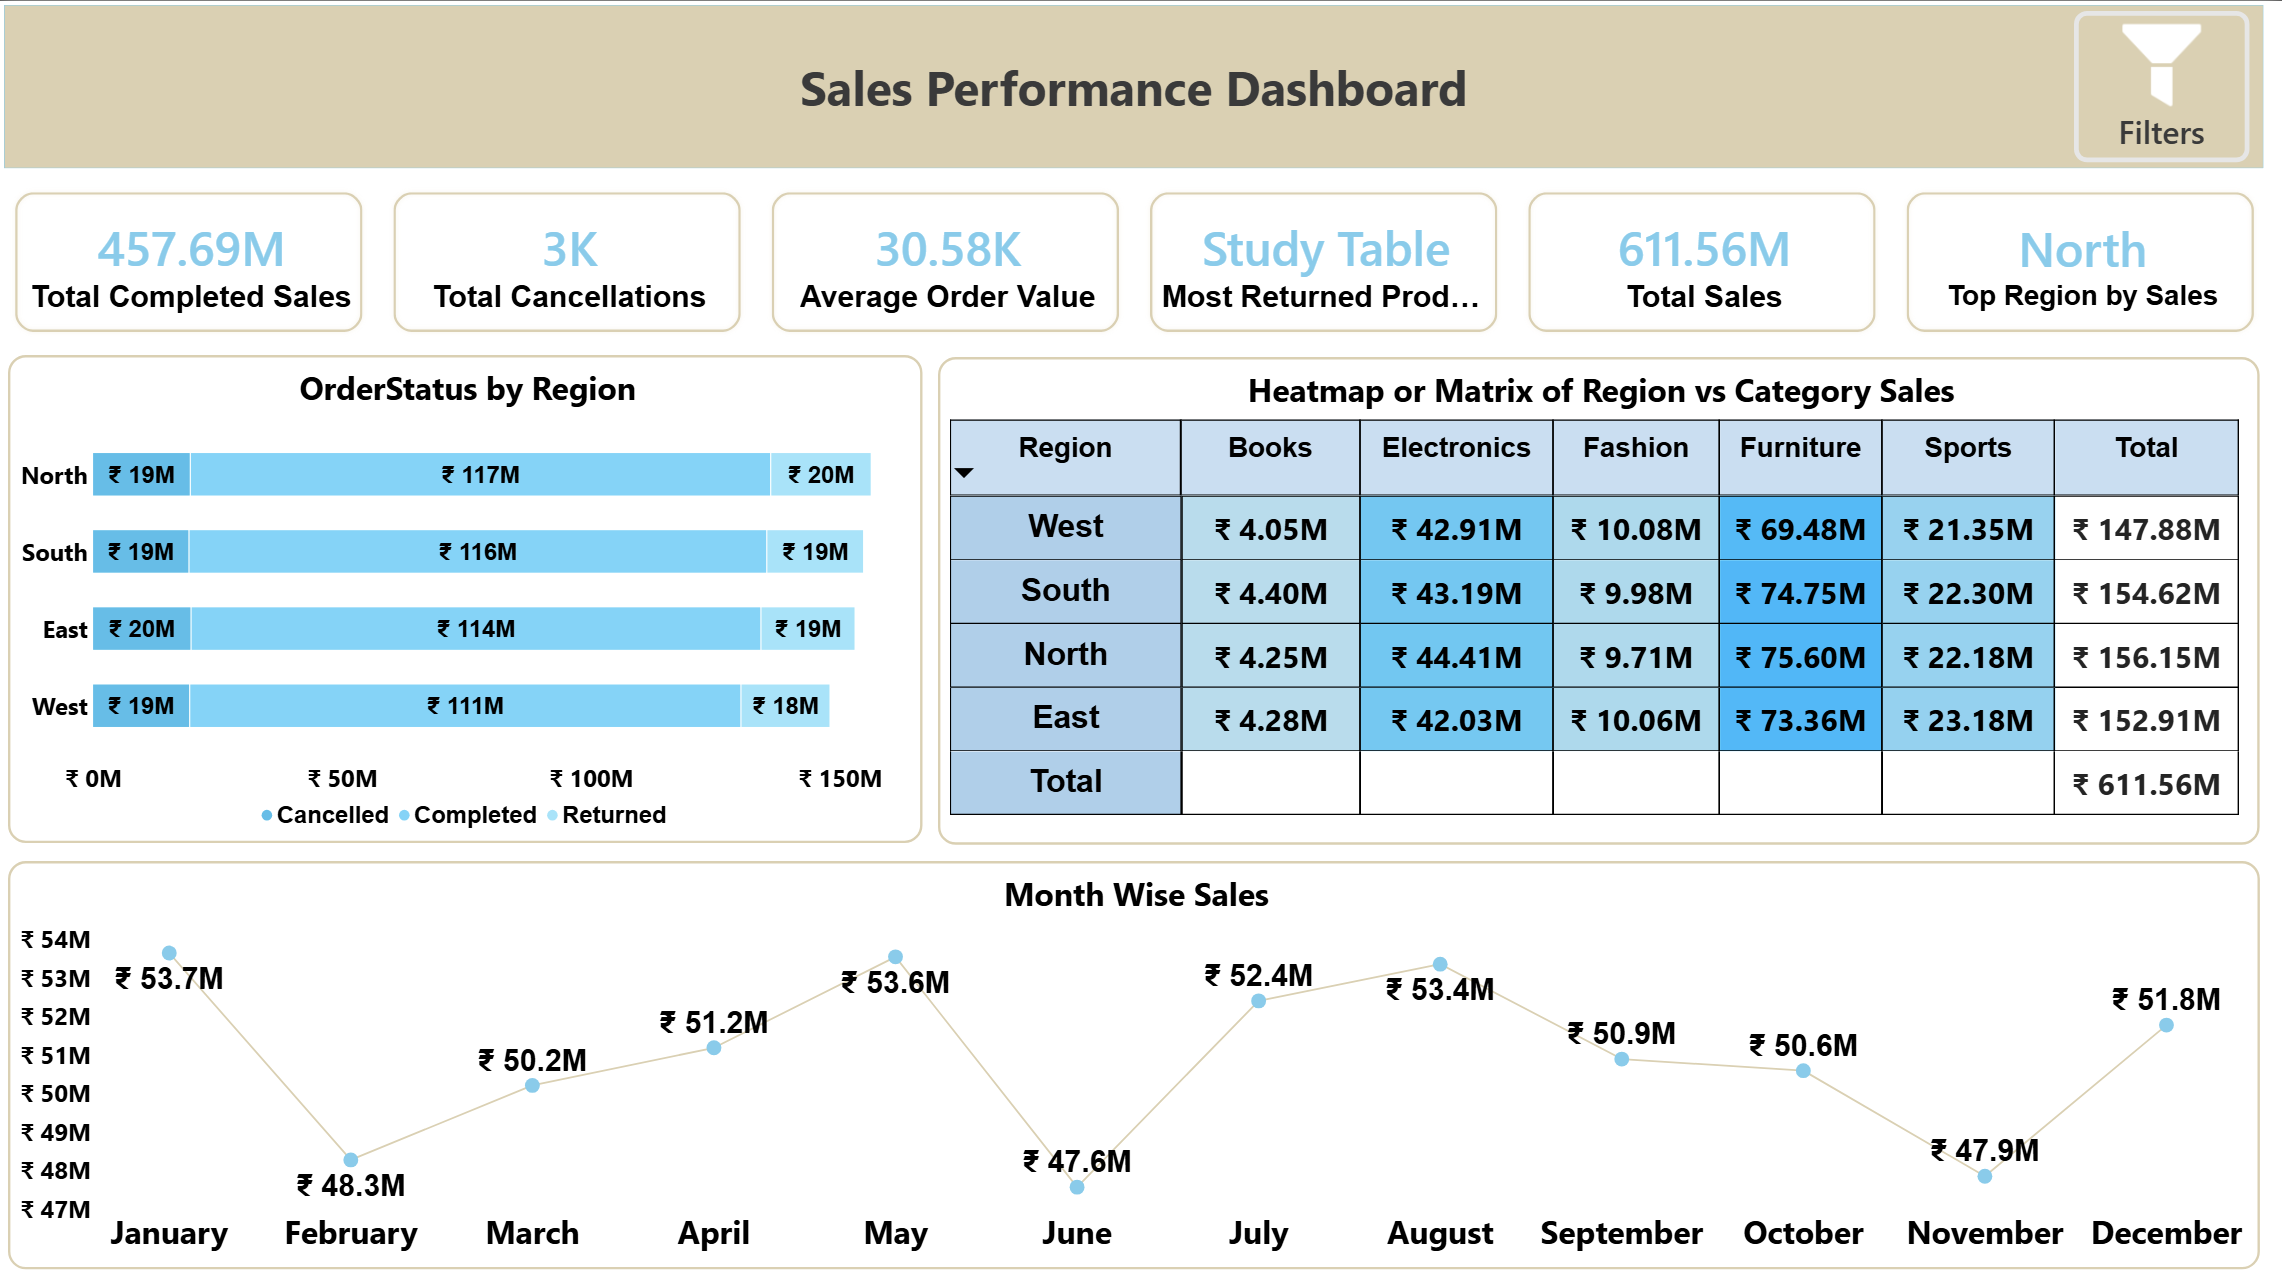

What the dashboard file says about the page in this screenshot:
{"tool":"powerbi","page":{"name":"Sales Perfomance Analysis","canvas":[3840,2160],"ordinal":0},"visuals":[{"type":"shape","box":[10,6.7,3798.8,274.7],"z":1000},{"type":"cardVisual","fields":{"Data":["Calculation_measure.Total Completed Sales","Calculation_measure.Total Cancellations","Calculation_measure.Average Order Value","Calculation_measure.Most Returned Product","Calculation_measure.Total Sales","Calculation_measure.Top Region by Sales"]},"box":[17.3,309.3,3791.6,259.7],"z":2000},{"type":"barChart","title":" OrderStatus by Region","fields":{"Category":["regionalsales2025.Region"],"Series":["regionalsales2025.OrderStatus"],"Y":["Sum(regionalsales2025.TotalAmount)"]},"box":[16.7,596.8,1537.6,820.7],"z":3000},{"type":"pivotTable","title":"Heatmap or Matrix of Region vs Category Sales","fields":{"Columns":["regionalsales2025.Category"],"Rows":["regionalsales2025.Region"],"Values":["Sum(regionalsales2025.TotalAmount)"]},"box":[1582,596.9,2222,819.8],"z":5000},{"type":"lineChart","title":"Month Wise Sales","fields":{"Category":["regionalsales2025.OrderDate.Variation.Date Hierarchy.Month"],"Y":["Sum(regionalsales2025.TotalAmount)"]},"box":[18,1445.4,3786.1,686.7],"z":6000},{"type":"actionButton","box":[3490.6,16.7,294.8,254.6],"z":6500}]}

Visuals, with their boxes in screenshot pixels (x1, y1, x2, y2), scaled from the page's 3840x2160 canvas onto the 2282x1282 screenshot:
shape: [x1=6, y1=4, x2=2263, y2=167]
cardVisual - Calculation_measure.Total Completed Sales x Calculation_measure.Total Cancellations: [x1=10, y1=184, x2=2264, y2=338]
" OrderStatus by Region" barChart: [x1=10, y1=354, x2=924, y2=841]
"Heatmap or Matrix of Region vs Category Sales" pivotTable: [x1=940, y1=354, x2=2261, y2=841]
"Month Wise Sales" lineChart: [x1=11, y1=858, x2=2261, y2=1265]
actionButton: [x1=2074, y1=10, x2=2250, y2=161]
